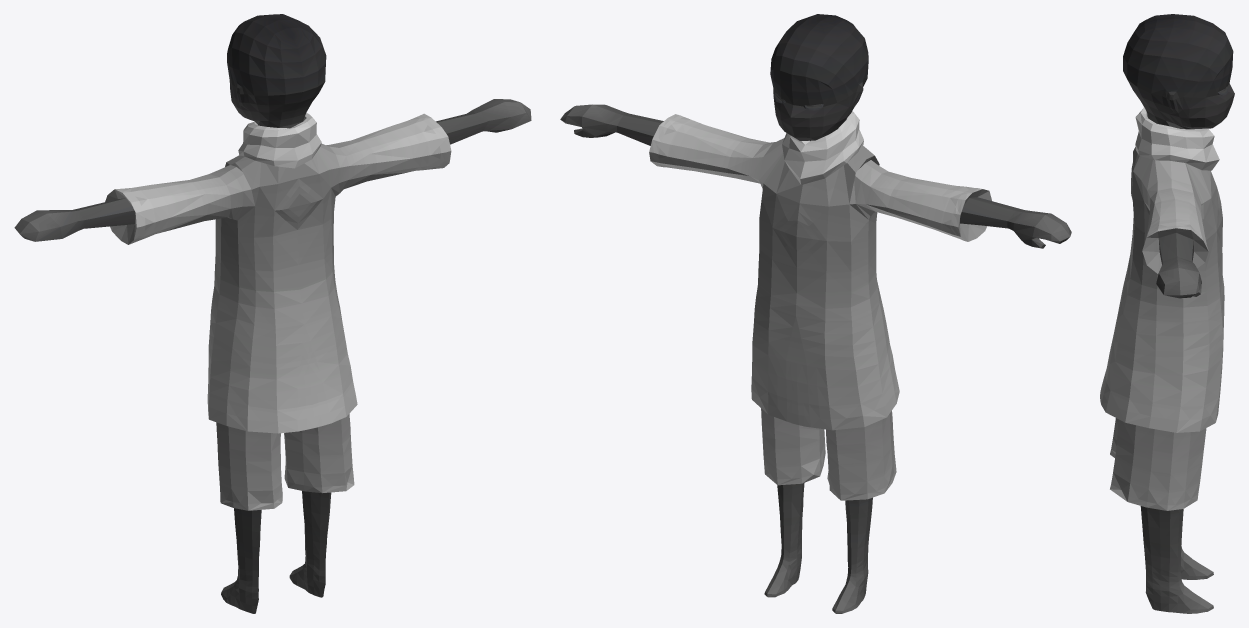
File: CharSkyKid_Body_LongPants.glb
3 views of the same model, side by side, from view 1: azimuth 30°, elevation 25°; view 2: azimuth 150°, elevation 25°; view 3: azimuth 270°, elevation 25° (orthographic).
Parts seen in each view (by area): view 1: CharSkyKid_Body_LongPants; view 2: CharSkyKid_Body_LongPants; view 3: CharSkyKid_Body_LongPants.
Boxes of the visible parts, x1=… form: CharSkyKid_Body_LongPants: x1=14, y1=14, x2=531, y2=613; CharSkyKid_Body_LongPants: x1=560, y1=14, x2=1071, y2=613; CharSkyKid_Body_LongPants: x1=1100, y1=14, x2=1234, y2=613.
Bounding box in the file's own units: 13.83 × 14.94 × 3.18.
Materials: 1 (1 with a texture image).
